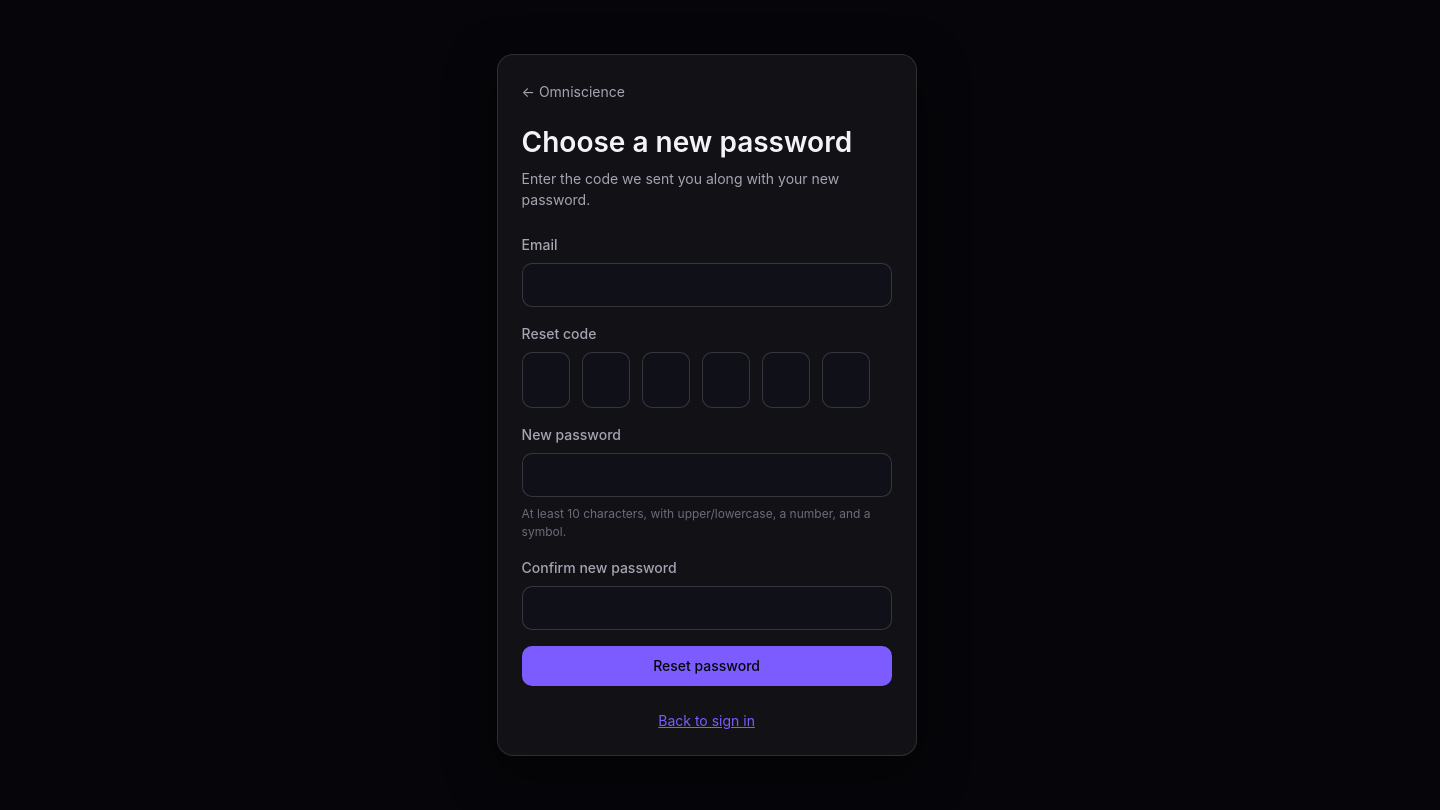
Test case: ResetPasswordPage › disables submission and shows an error when the passwords don't match
Type "Abcdefgh1!" into the password field labelled "New password".
click(707, 475); type("Abcdefgh1!")  # box [522, 453, 892, 497]
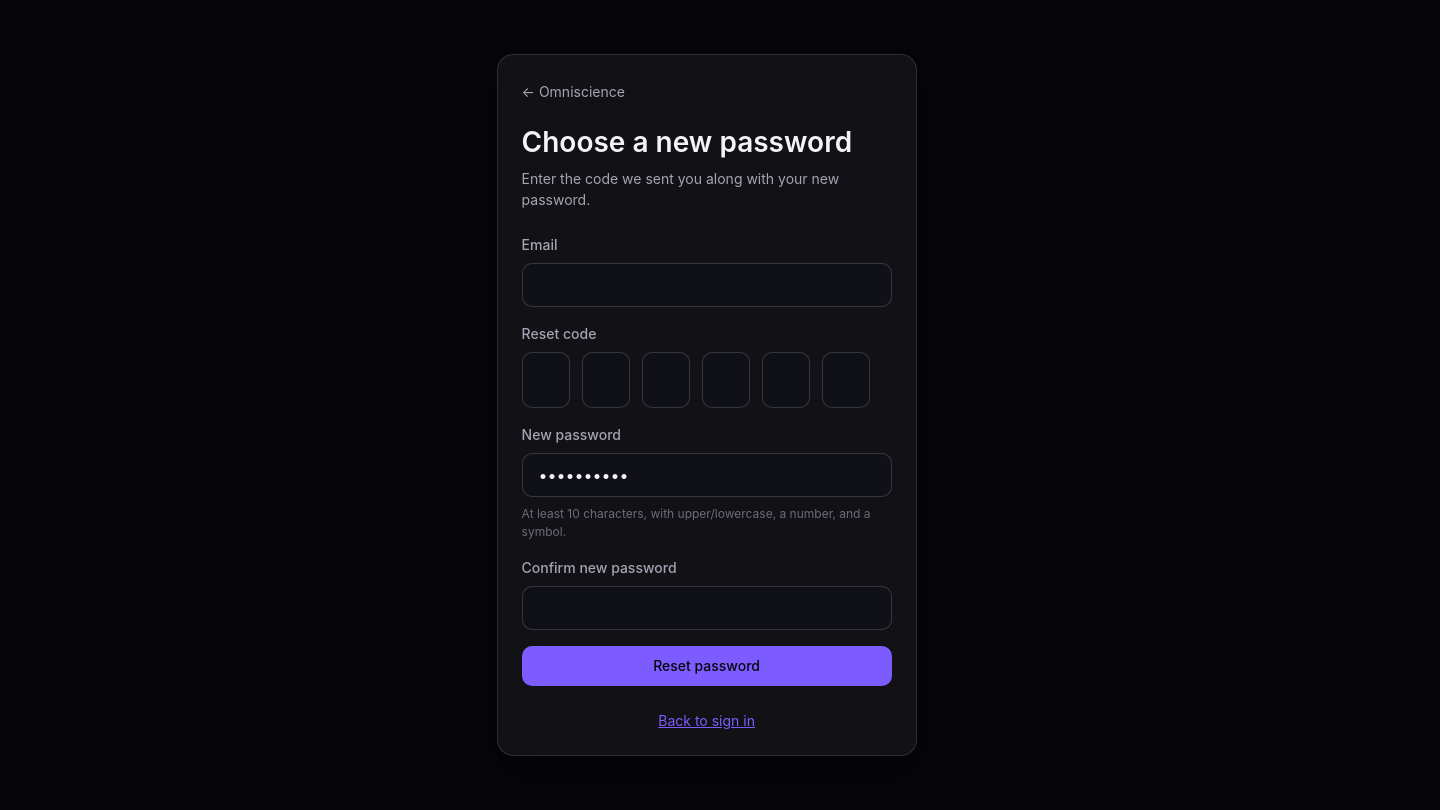
Type "different" into the password field labelled "Confirm new password".
click(707, 608); type("different")  # box [522, 586, 892, 630]
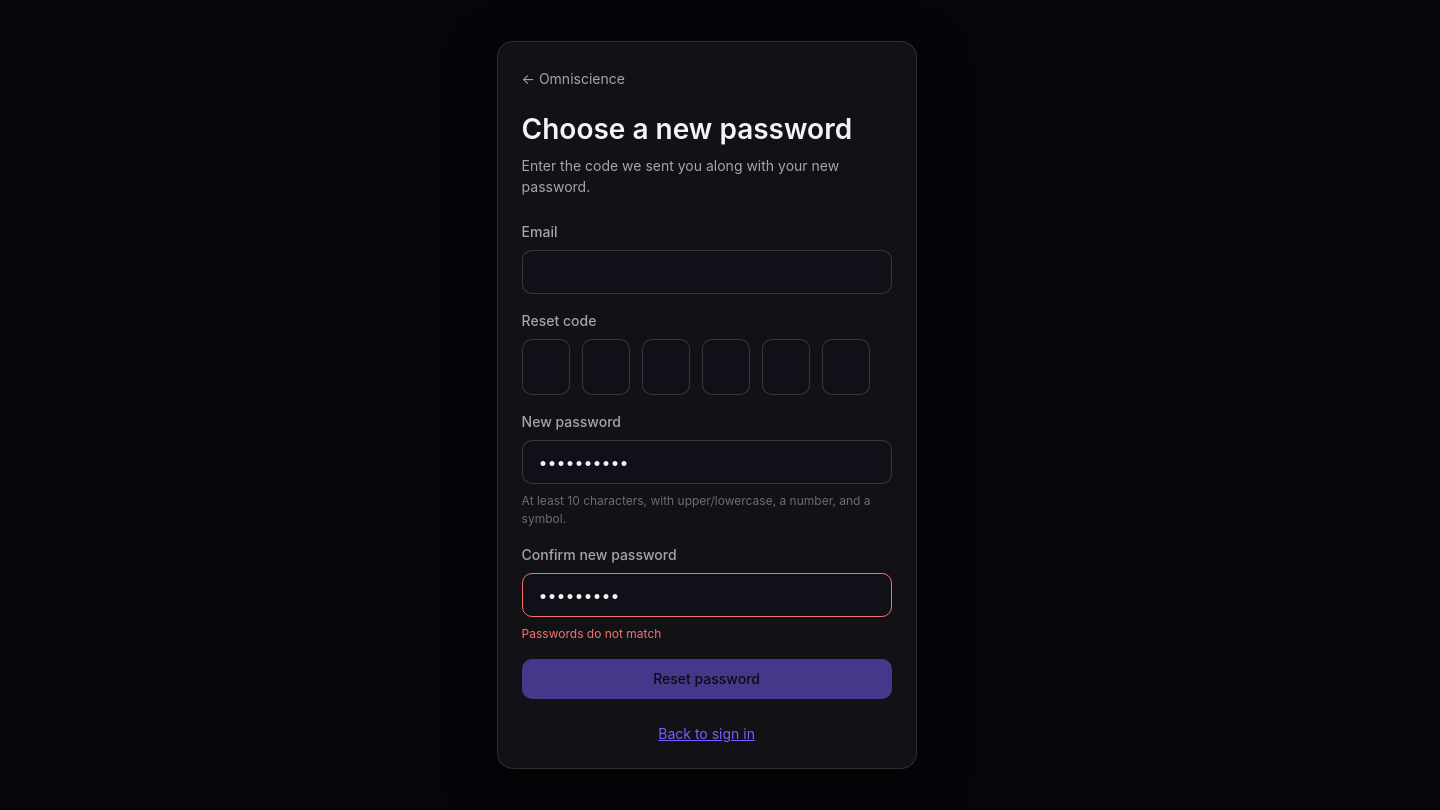
Check: the text "Passwords do not match" is shown, box [522, 626, 661, 641]
Check: the button "Reset password" is disabled, box [522, 659, 892, 699]
